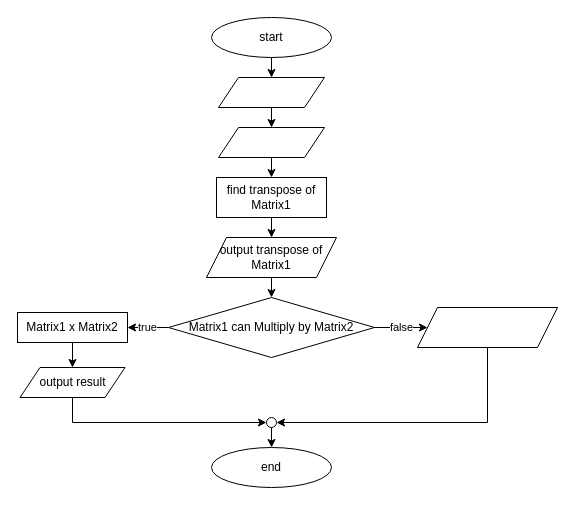
This 575x505 diagram has some shape labels left out. Each missing label, with the centre of its shape:
"input Matrix 2" belongs at [271,142].
"input Matrix1" belongs at [271,92].
"Matrix1 and Matrix2 cannot multiply" belongs at [487,327].
